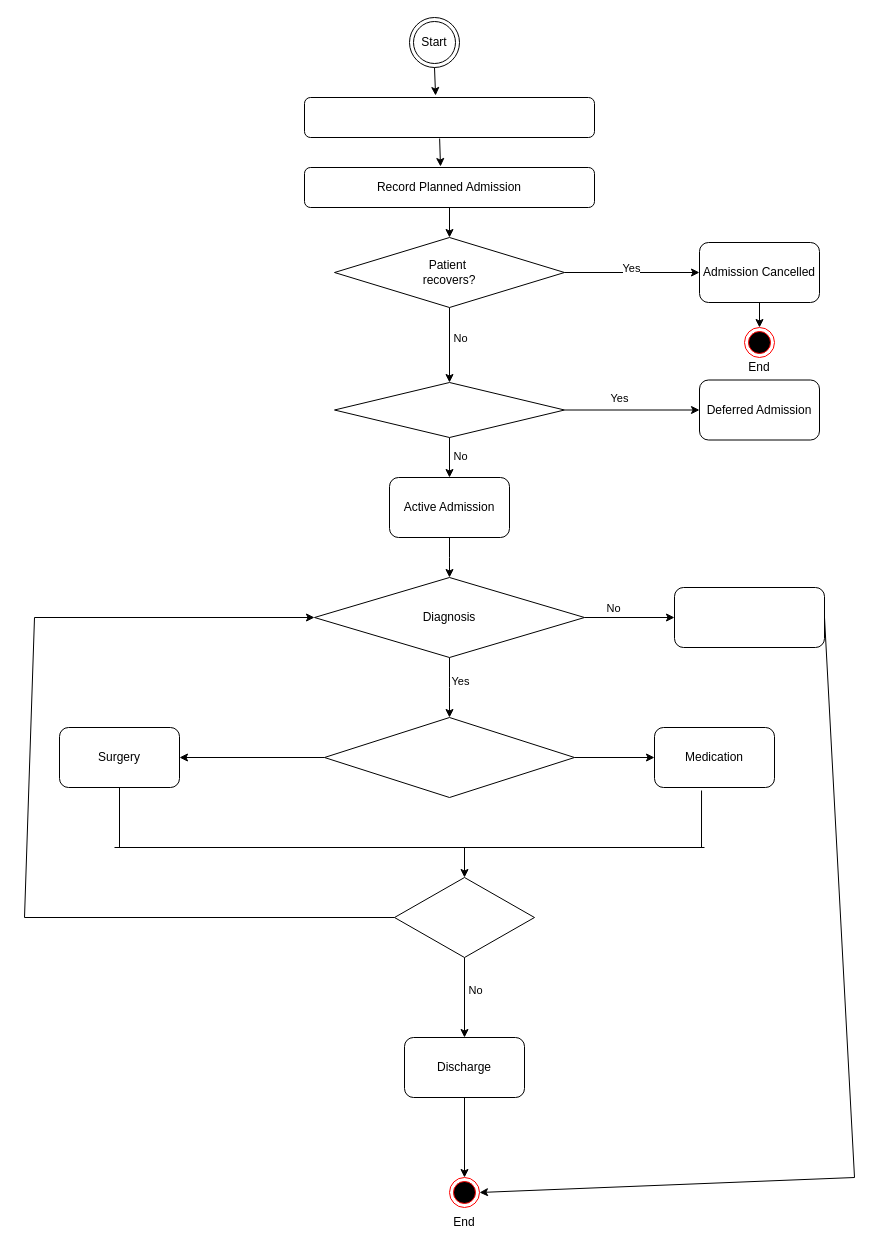
Some shapes in this 880 by 1255 pixel diagram are drawn without their labels. Here are the shapes that lost their labels. From the top down, the box of each, then its label:
(304, 96, 594, 138): Community Doctor refers Patient
(334, 382, 564, 438): Delay Admission?
(674, 586, 824, 648): Discharged
(324, 716, 574, 798): Treatable
(394, 876, 534, 958): More Treatment?
